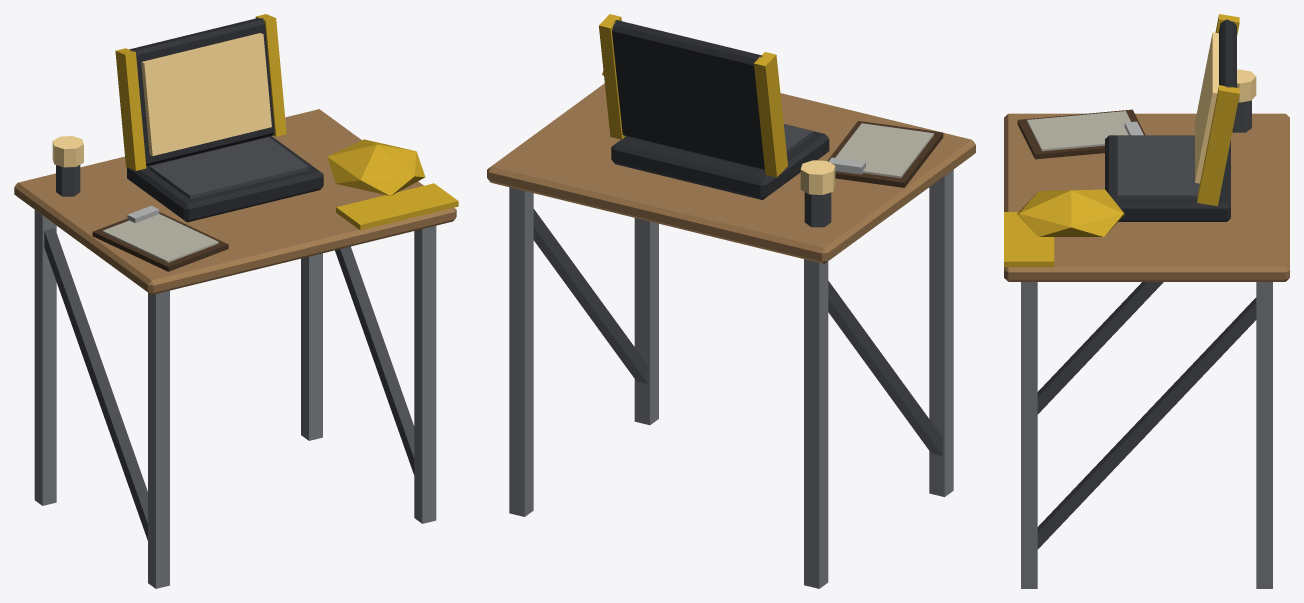
The model's file is site_terminal.fbx.
3 renders of one model, left to right at view 1: azimuth 30°, elevation 25°; view 2: azimuth 150°, elevation 25°; view 3: azimuth 270°, elevation 25°, orthographic. The views are drawn at different scales.
Visible parts, largest first — view 1: site_terminal; view 2: site_terminal; view 3: site_terminal.
Part boxes in pixels (bbox=[...]): site_terminal: bbox=[14, 14, 458, 588]; site_terminal: bbox=[487, 14, 975, 588]; site_terminal: bbox=[1004, 14, 1289, 588].
Bounding box in the file's own units: 0.88 × 1.22 × 0.68.
